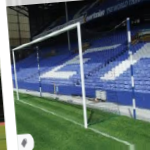goals: (12, 20, 120, 128)
